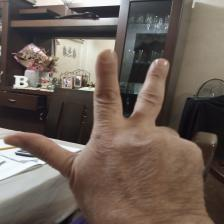three: (8, 50, 205, 215)
